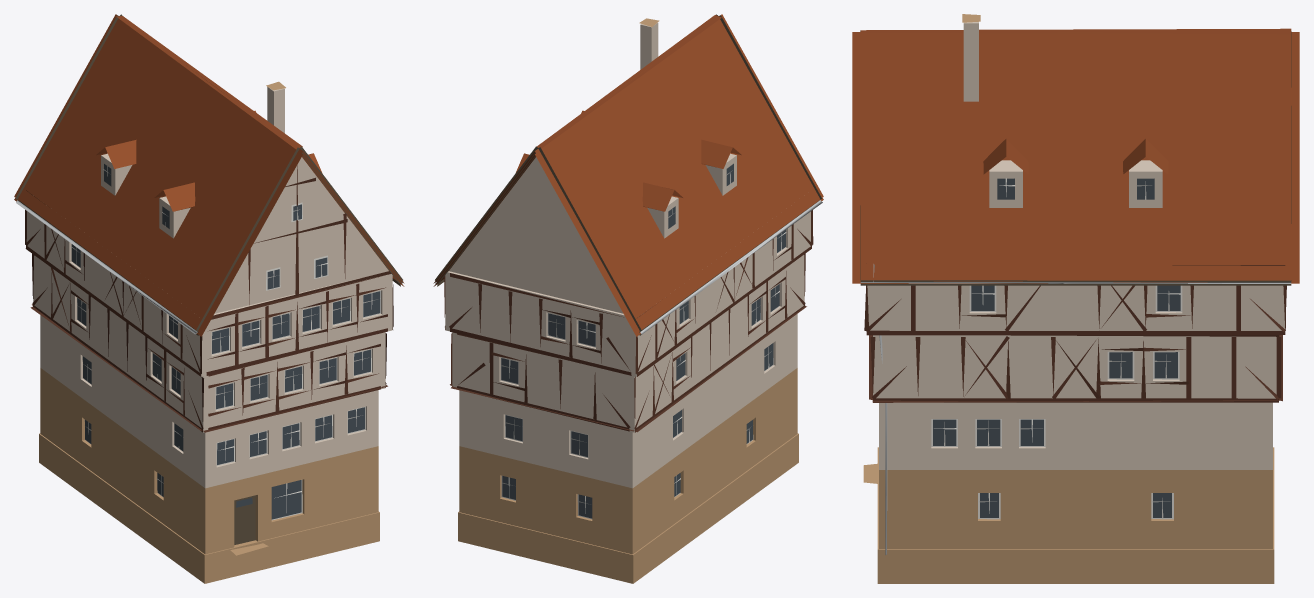
The model's file is oldtown-gable-4-lod1.glb.
3 views of the same model, side by side, from view 1: azimuth 30°, elevation 25°; view 2: azimuth 150°, elevation 25°; view 3: azimuth 270°, elevation 25° (orthographic). The views are drawn at different scales.
Visible parts, largest first — view 1: oldtown-gable-4-plaster.001; view 2: oldtown-gable-4-plaster.001; view 3: oldtown-gable-4-plaster.001.
Part boxes in pixels (bbox=[...]): oldtown-gable-4-plaster.001: bbox=[14, 14, 404, 583]; oldtown-gable-4-plaster.001: bbox=[433, 14, 823, 583]; oldtown-gable-4-plaster.001: bbox=[852, 14, 1299, 583].
Size of the model in its own units: 10.22 by 20.73 by 15.92.
